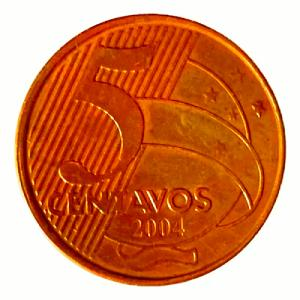5 cent: (14, 12, 286, 286)
